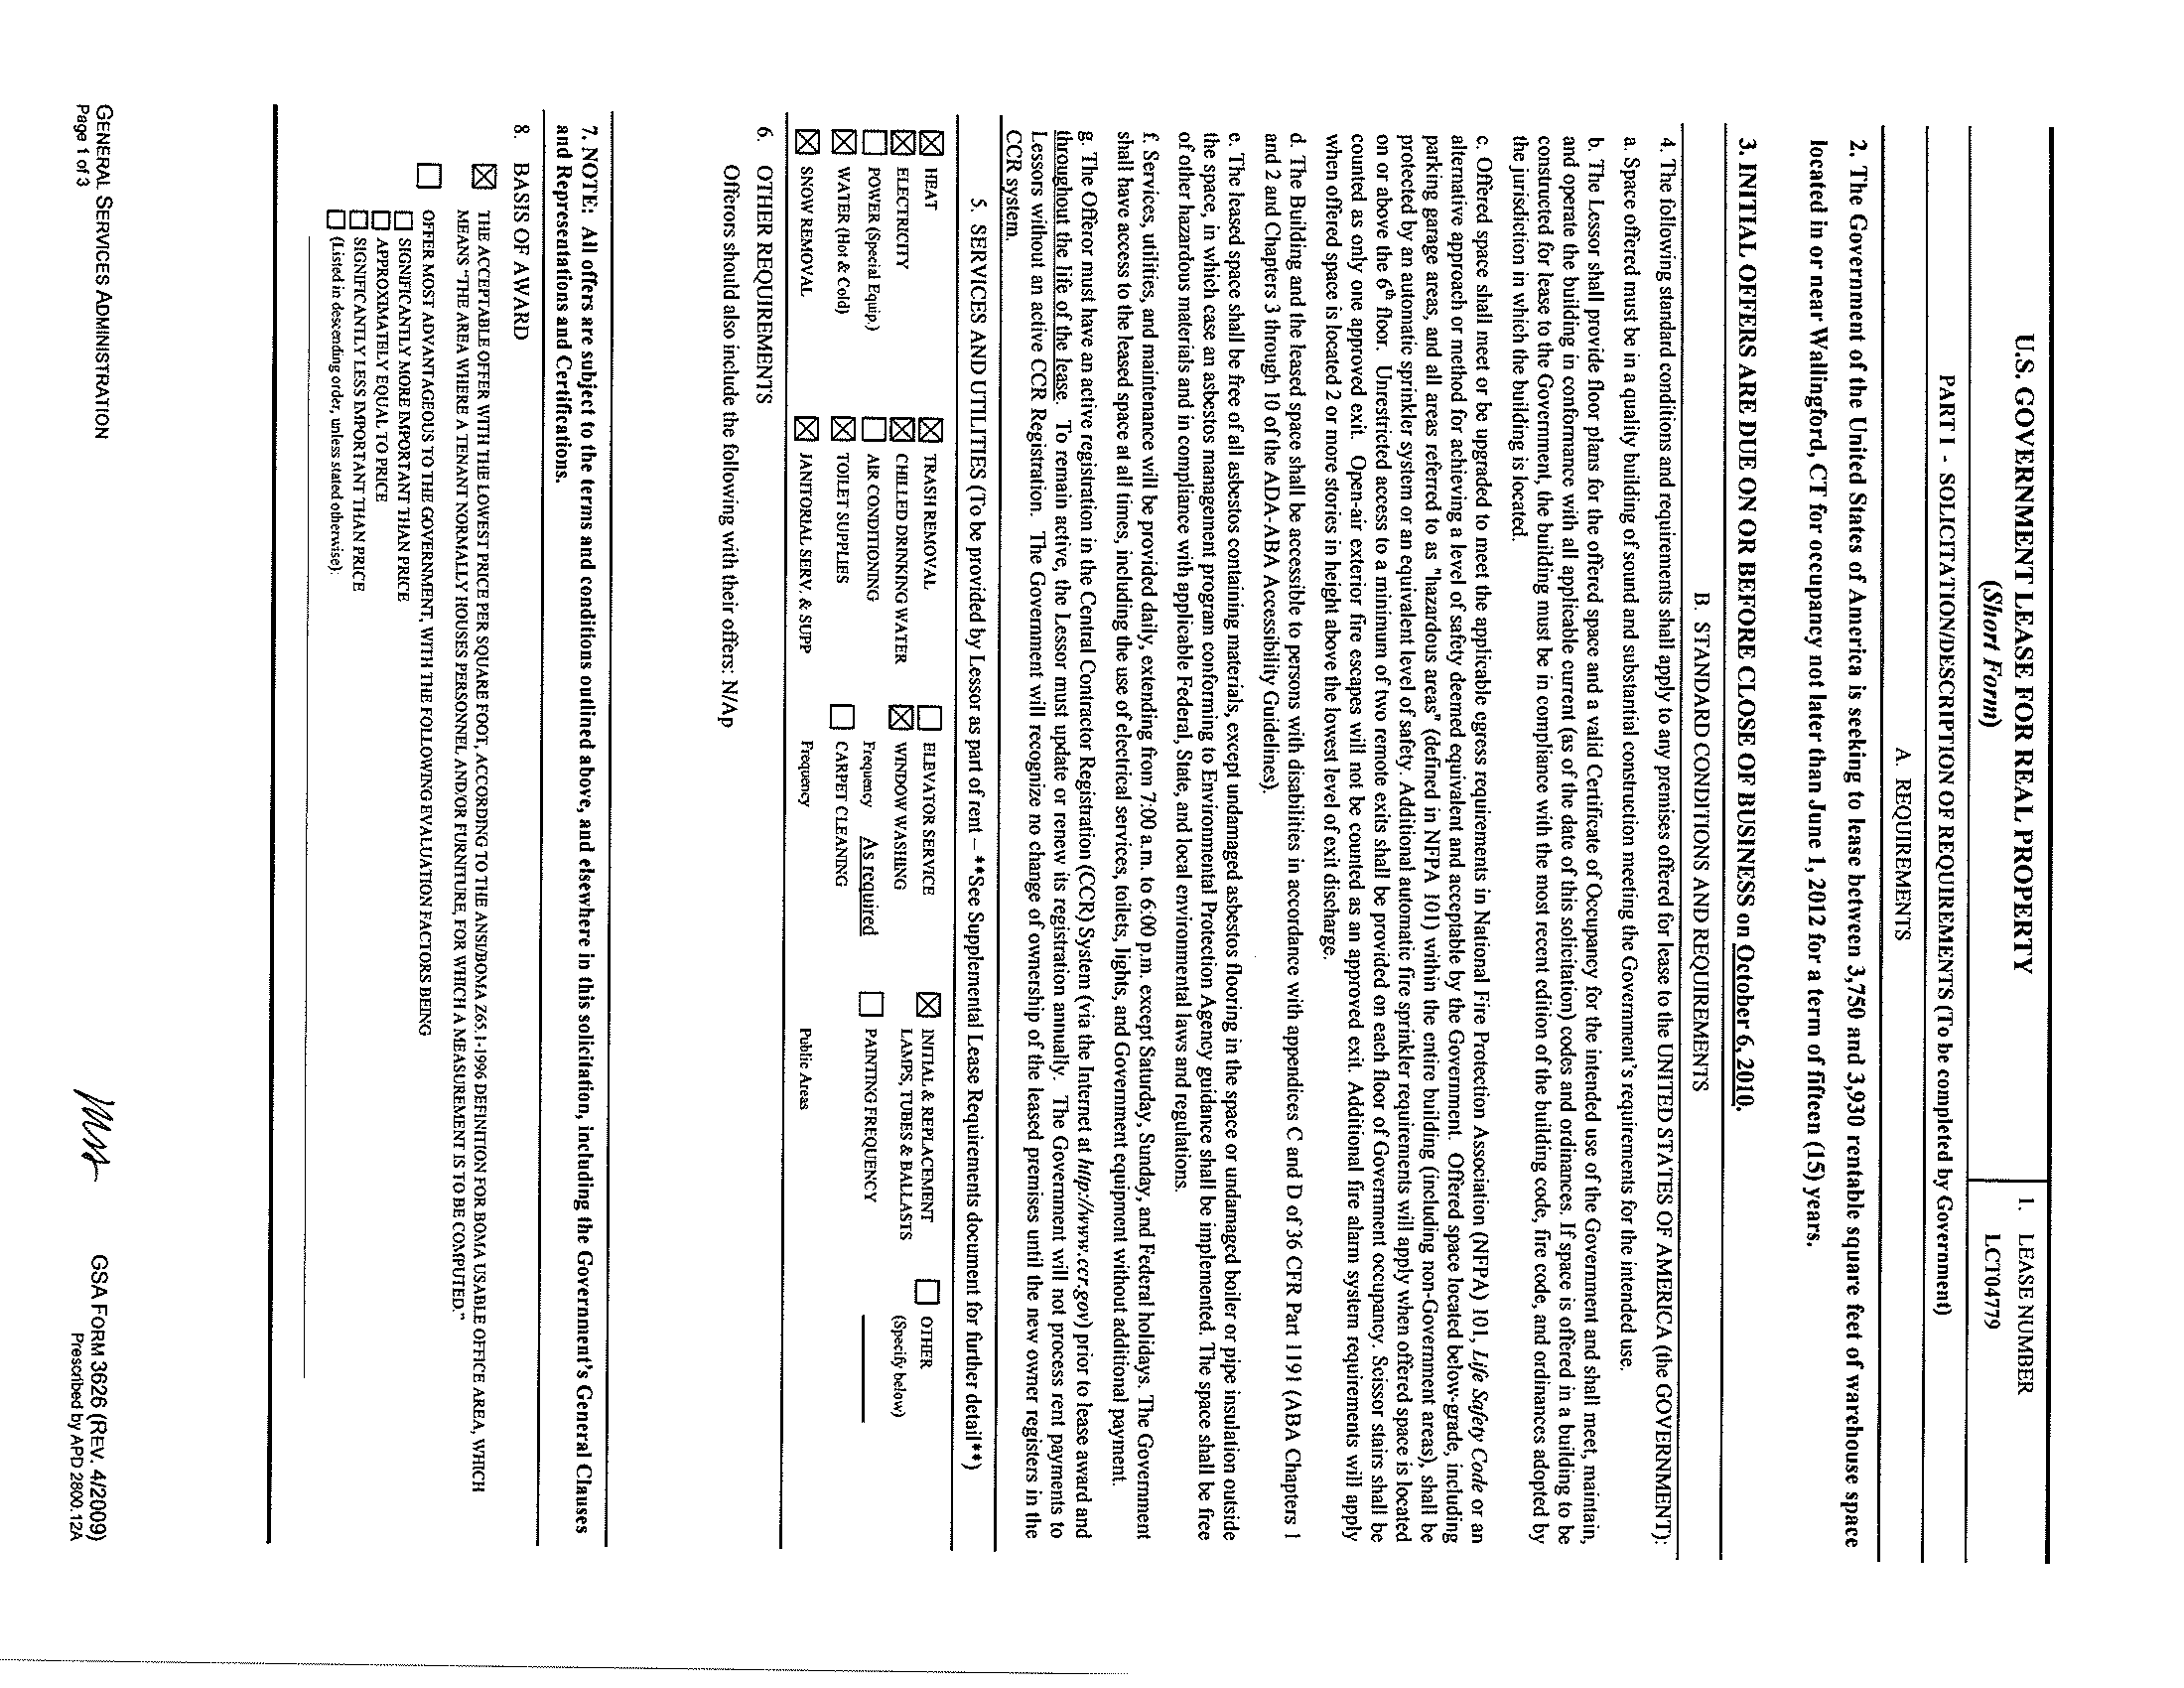handwritten: (71, 1080, 122, 1184)
